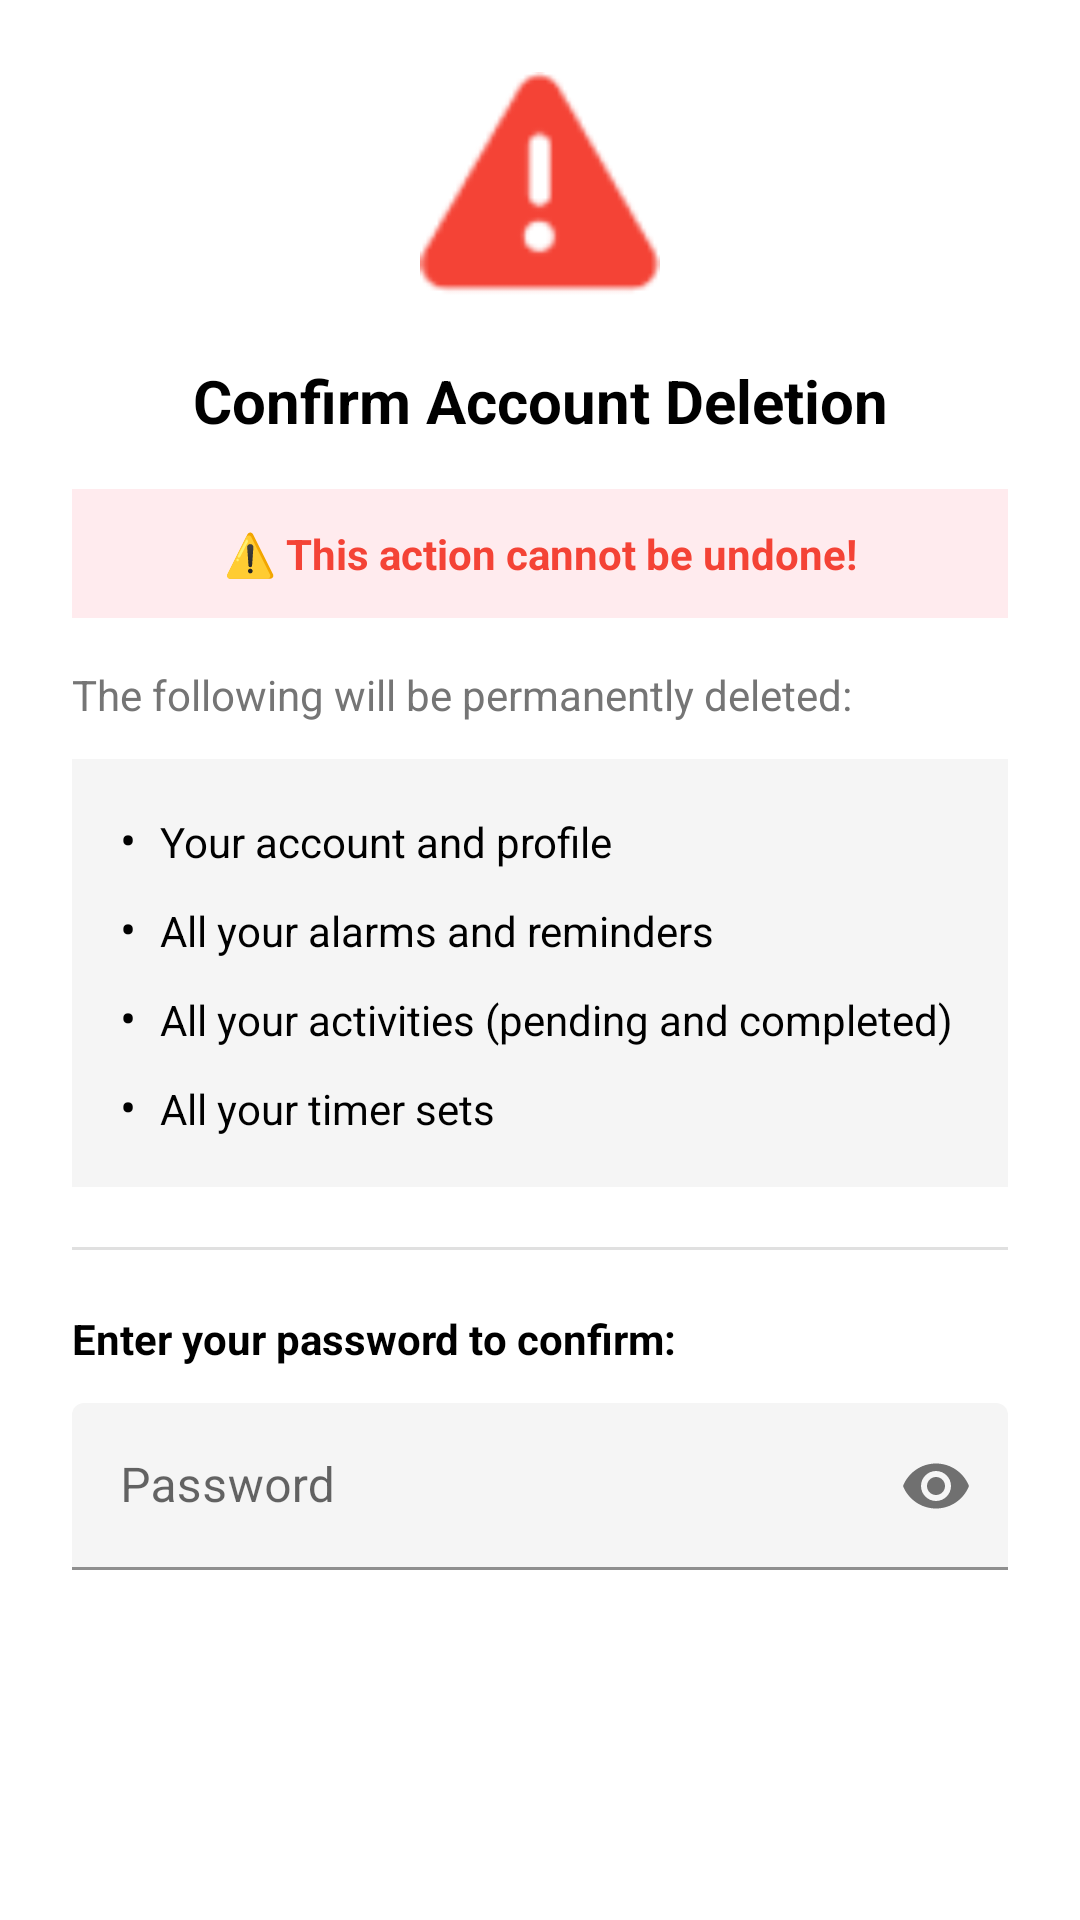

Icons on this 1080w x 1920h Android screen, each with its box as rect(x1, y1, x2, y2):
alert: rect(420, 72, 660, 291)
